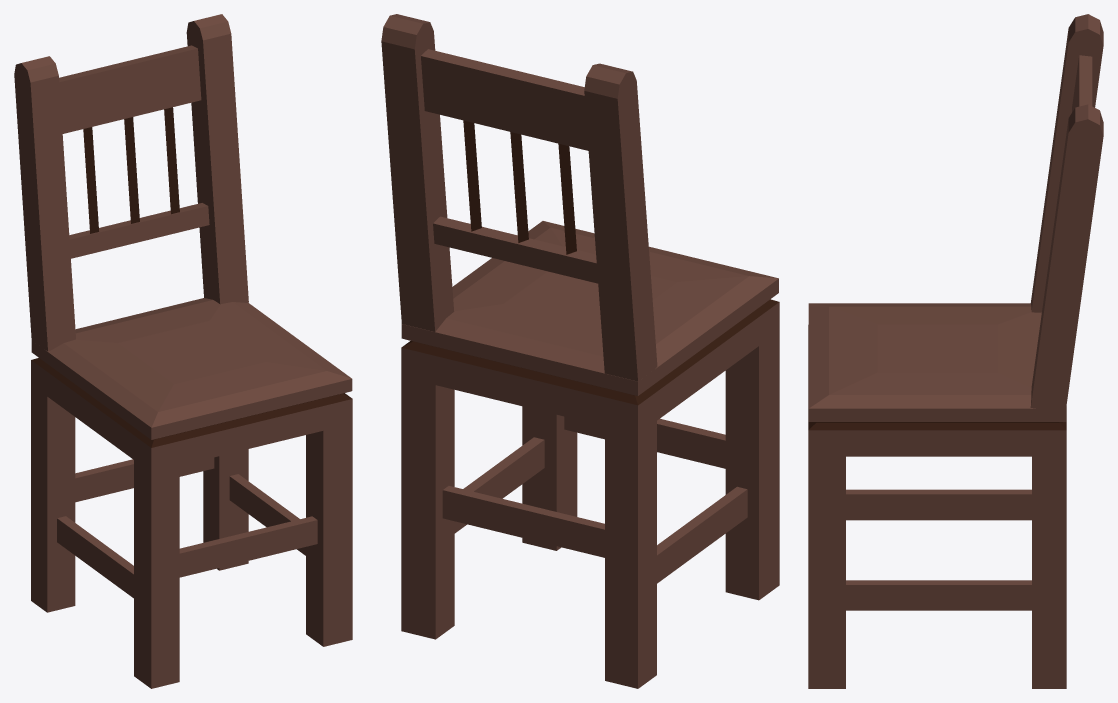
The model's file is chair.fbx.
3 renders of one model, left to right at view 1: azimuth 30°, elevation 25°; view 2: azimuth 150°, elevation 25°; view 3: azimuth 270°, elevation 25°, orthographic. The views are drawn at different scales.
Parts seen in each view (by area): view 1: Chair; view 2: Chair; view 3: Chair.
Boxes of the visible parts, x1,y1,x2,y2 form: Chair: (14, 14, 352, 688); Chair: (381, 14, 779, 688); Chair: (808, 14, 1103, 688).
Bounding box in the file's own units: 48.72 × 123 × 57.58.
